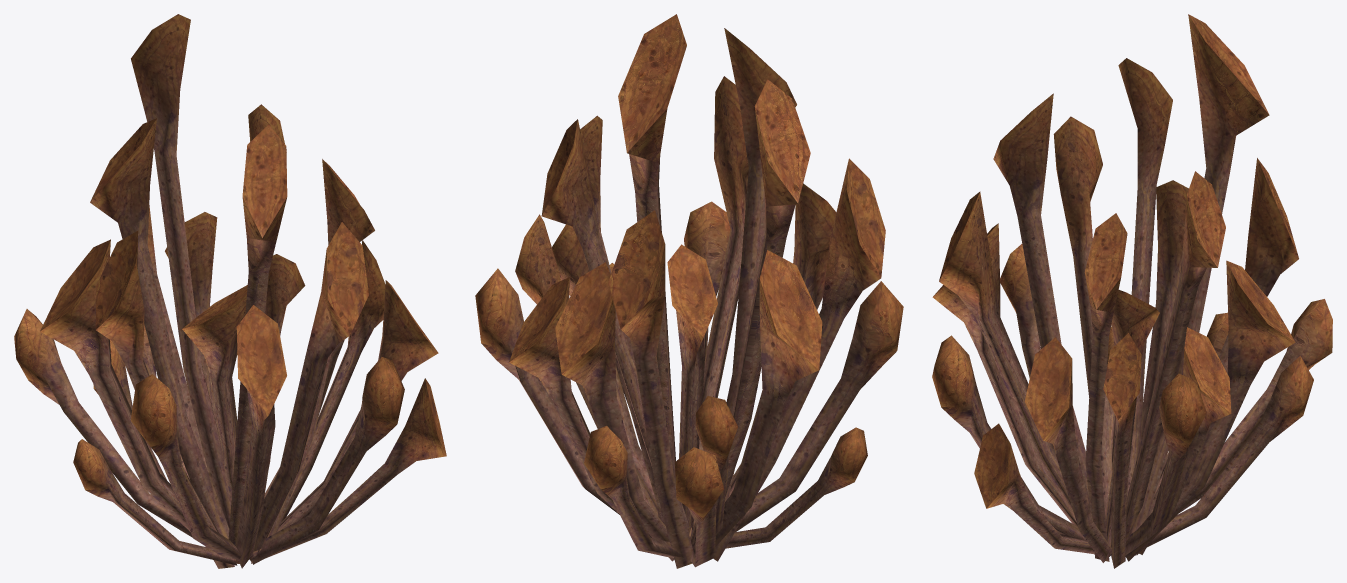
File: Shroom_Plant2_1_L2.fbx
3 views of the same model, side by side, from view 1: azimuth 30°, elevation 25°; view 2: azimuth 150°, elevation 25°; view 3: azimuth 270°, elevation 25° (orthographic). The views are drawn at different scales.
Parts seen in each view (by area): view 1: polySurface284; view 2: polySurface284; view 3: polySurface284.
Boxes of the visible parts, x1,y1,x2,y2 form: polySurface284: (14, 14, 446, 568); polySurface284: (475, 14, 903, 568); polySurface284: (932, 14, 1332, 568).
Bounding box in the file's own units: 85.26 × 132 × 90.15.
